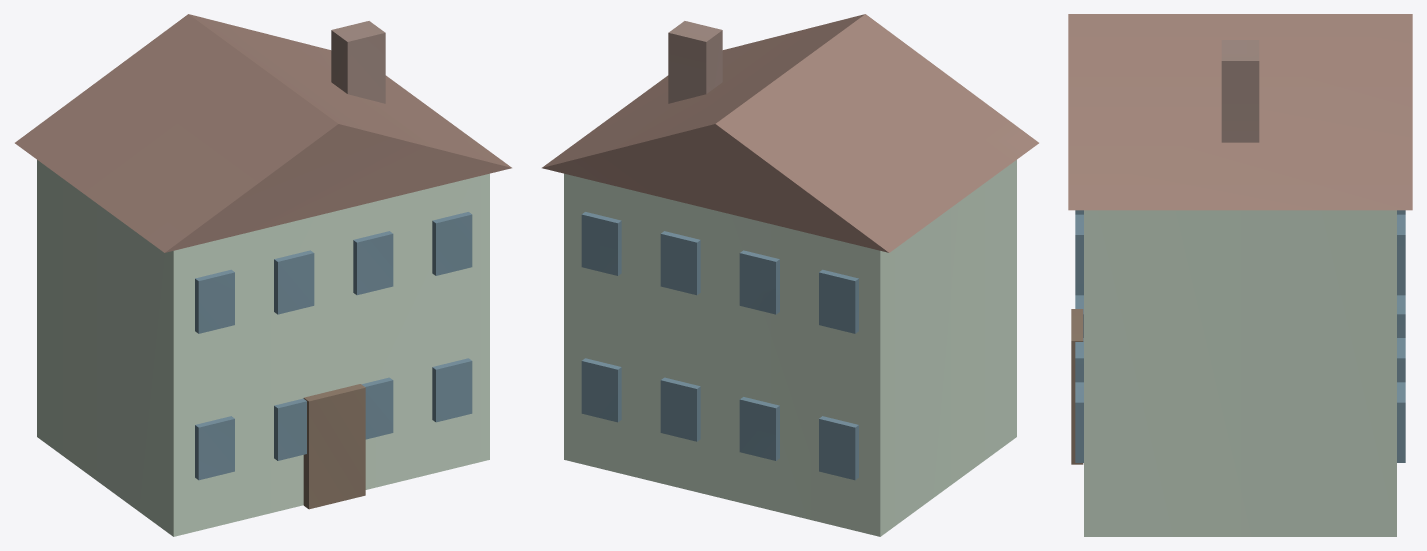
The model's file is chalet-03.glb.
3 views of the same model, side by side, from view 1: azimuth 30°, elevation 25°; view 2: azimuth 150°, elevation 25°; view 3: azimuth 270°, elevation 25° (orthographic). The views are drawn at different scales.
Parts seen in each view (by area): view 1: world; view 2: world; view 3: world.
Part boxes in pixels (x1,y1,x2,y2): world: (15, 14, 511, 536); world: (542, 14, 1038, 536); world: (1068, 14, 1412, 536).
Bounding box in the file's own units: 1.35 × 1.46 × 1.01.
